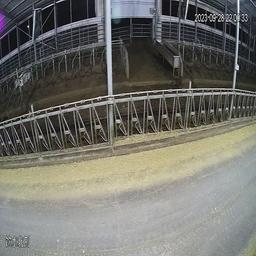cow: (12, 64, 34, 89)
